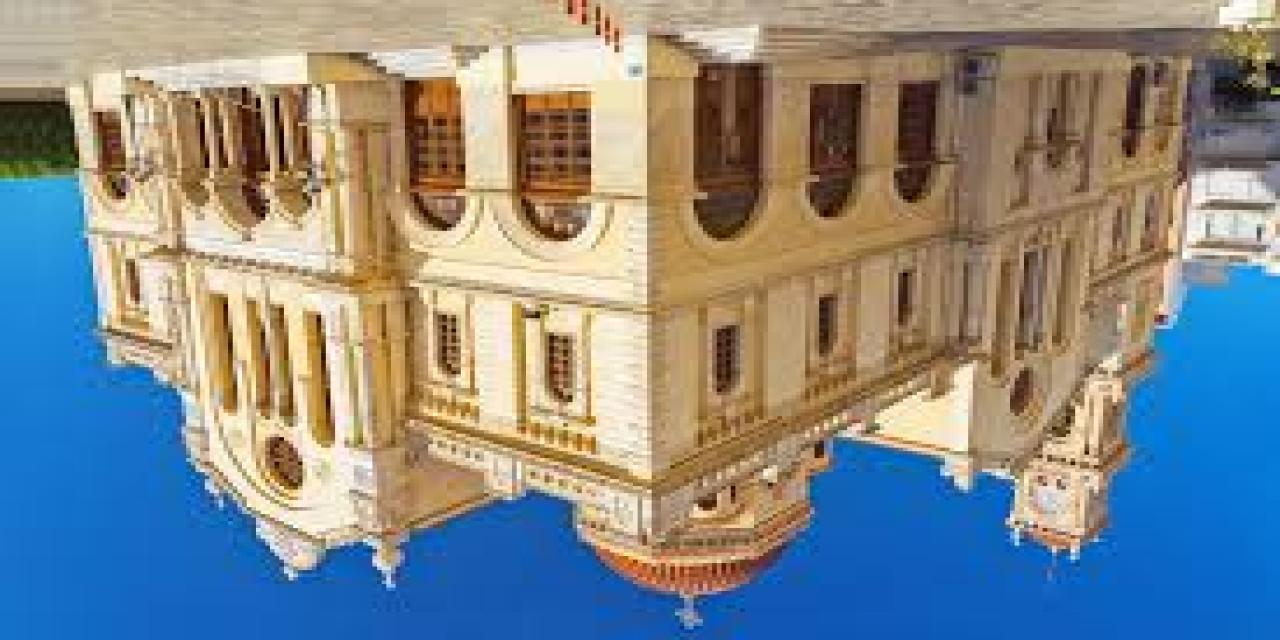Agios Minas: (70, 31, 1200, 631)
